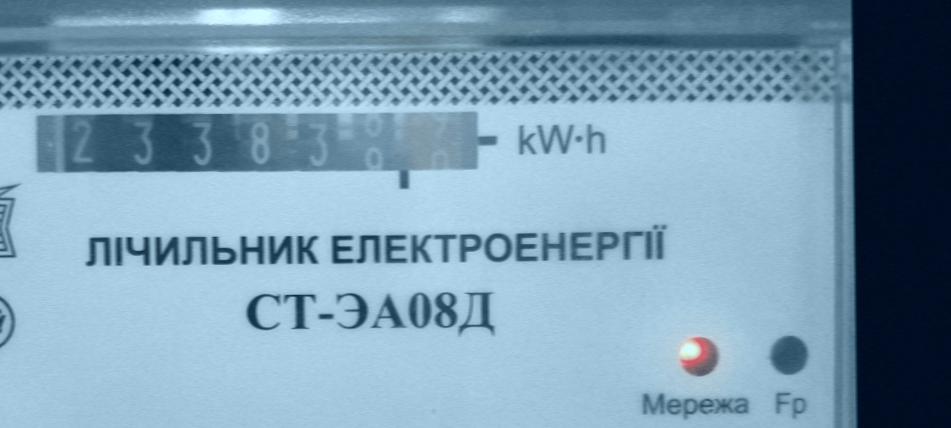0: (427, 145, 453, 170)
2: (68, 116, 96, 165)
3: (129, 117, 157, 167), (190, 118, 215, 169), (306, 119, 331, 167)
8: (248, 119, 273, 165), (360, 112, 388, 138)
9: (360, 142, 387, 172), (427, 110, 452, 139)
screen: (24, 98, 497, 195)
